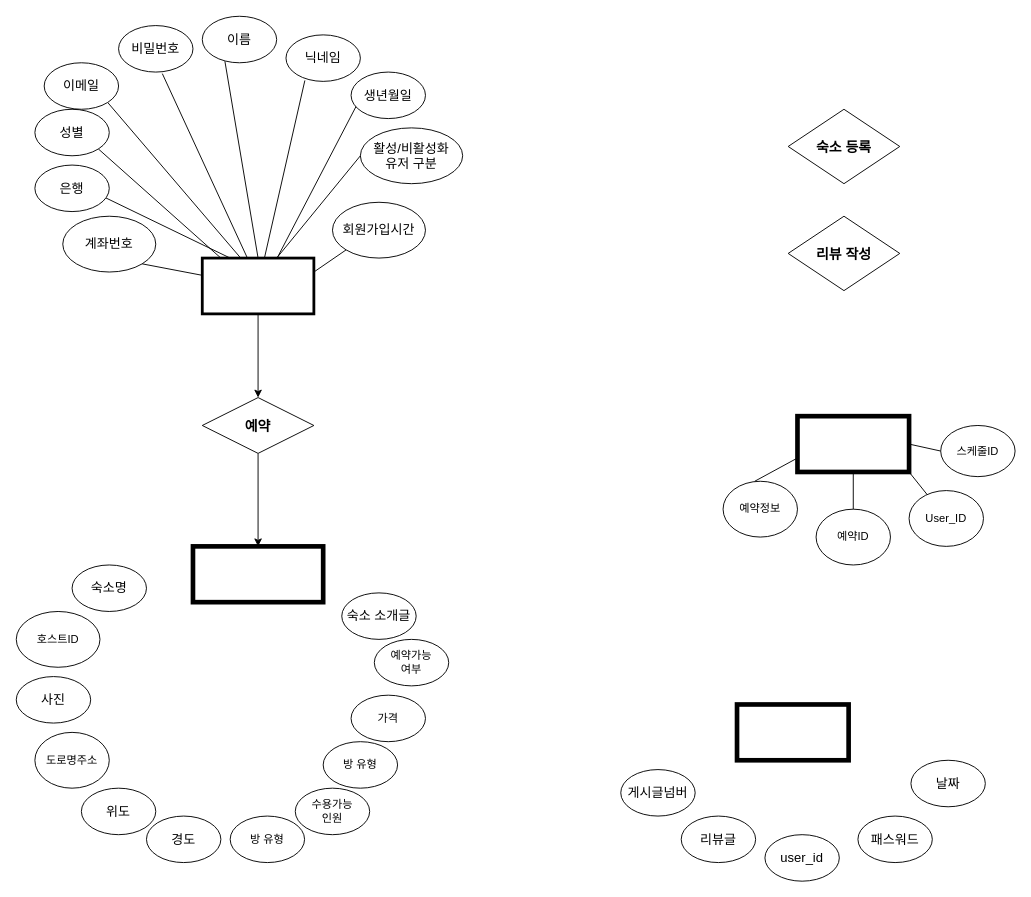
This 1031x897 diagram has some shape labels left out. Each missing label, with the centre of its shape:
Accomodation: (x=257, y=574)
Reservation: (x=853, y=443)
SiteReview: (x=792, y=732)
User: (x=257, y=285)
